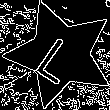L_NE: (32, 24, 88, 84)
